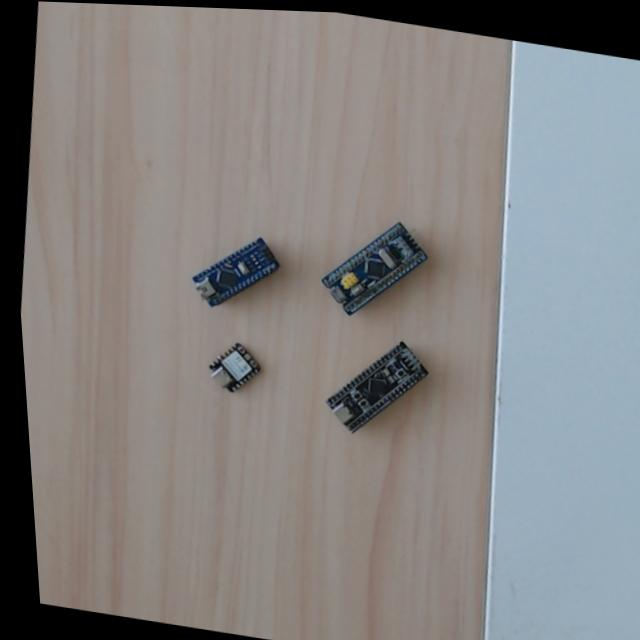Arduino-Nano: (185, 232, 280, 313)
ESP32C3-Xiao: (202, 335, 265, 398)
STM32-Blackpill: (319, 337, 428, 437)
STM32-Bluepill: (314, 216, 428, 320)
